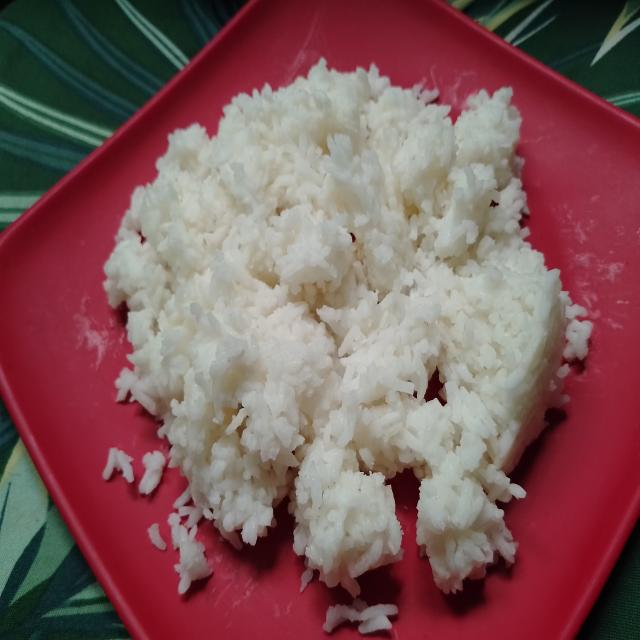Chicken -Chicken Inasal-: (112, 64, 572, 570)
